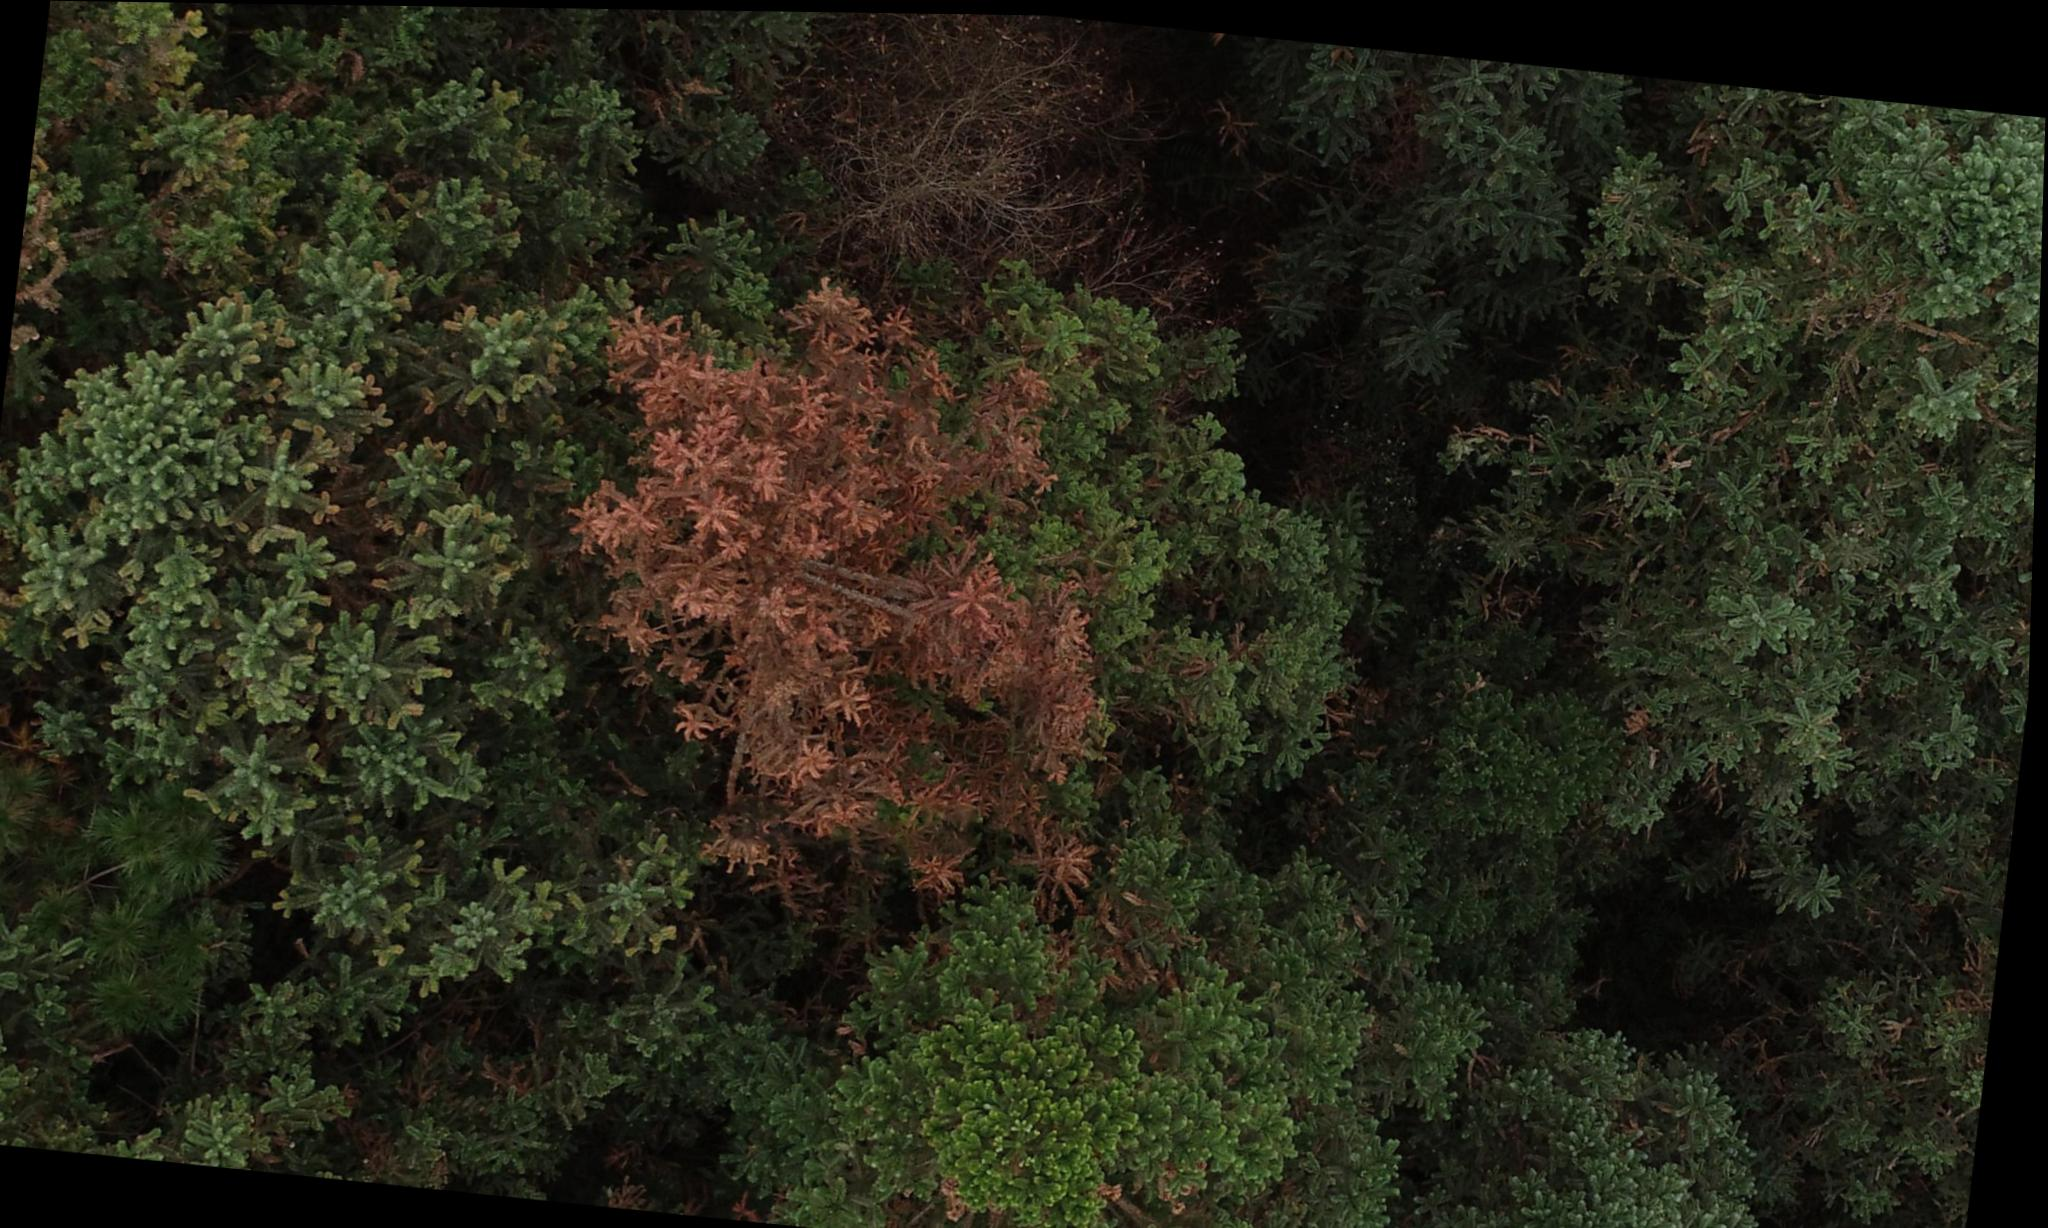heavy: (526, 256, 1171, 977)
